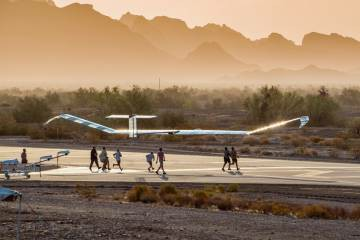maybay_khongnguoilai: (50, 104, 311, 151)
